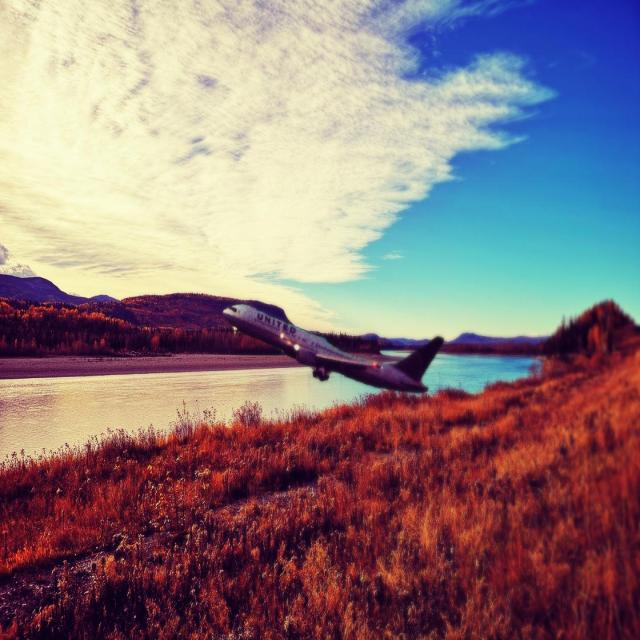airplane: (222, 299, 444, 393)
